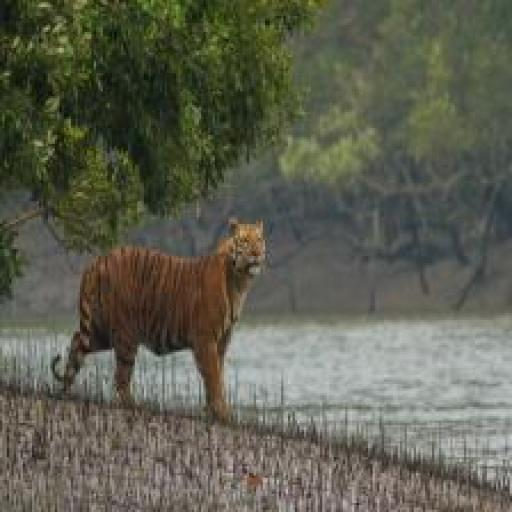Tiger: (46, 213, 271, 424)
